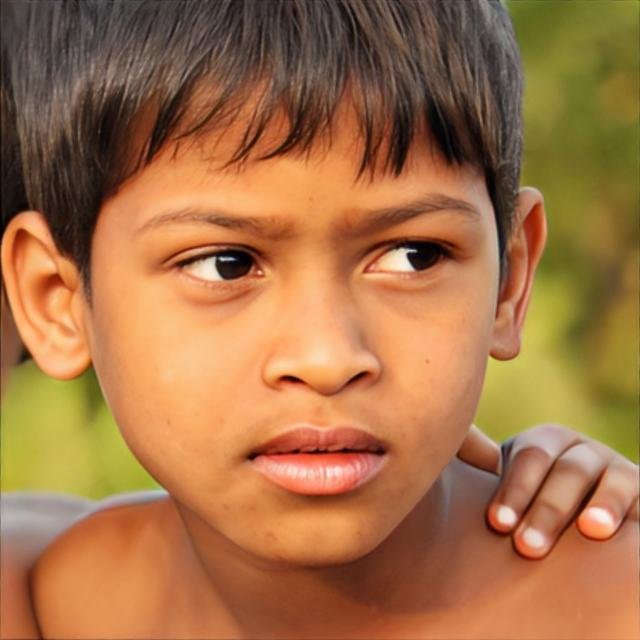anger: (92, 49, 492, 564)
